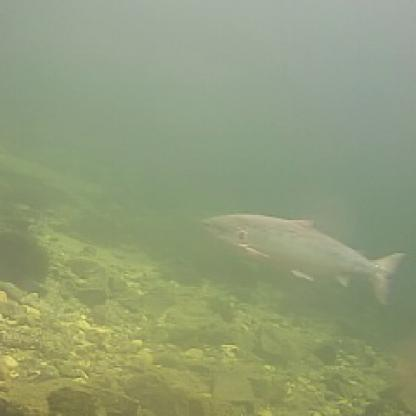salmon: (196, 204, 405, 307)
